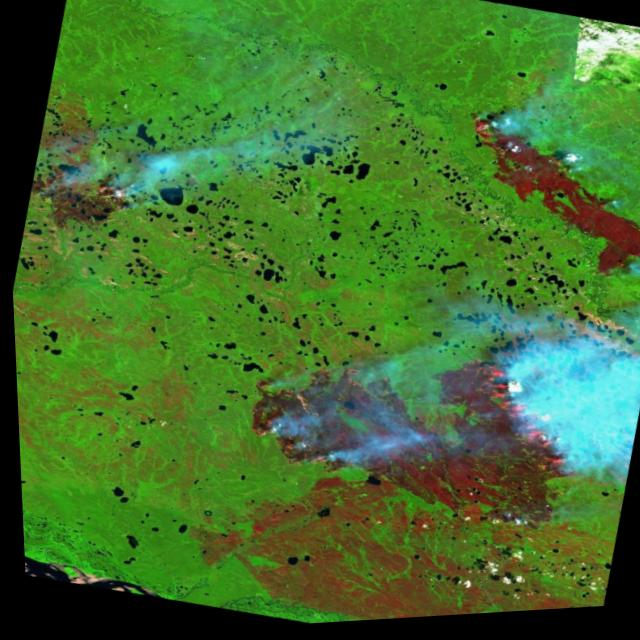fire: (418, 347, 635, 517), (211, 351, 380, 495), (20, 145, 145, 243), (442, 102, 510, 159)
